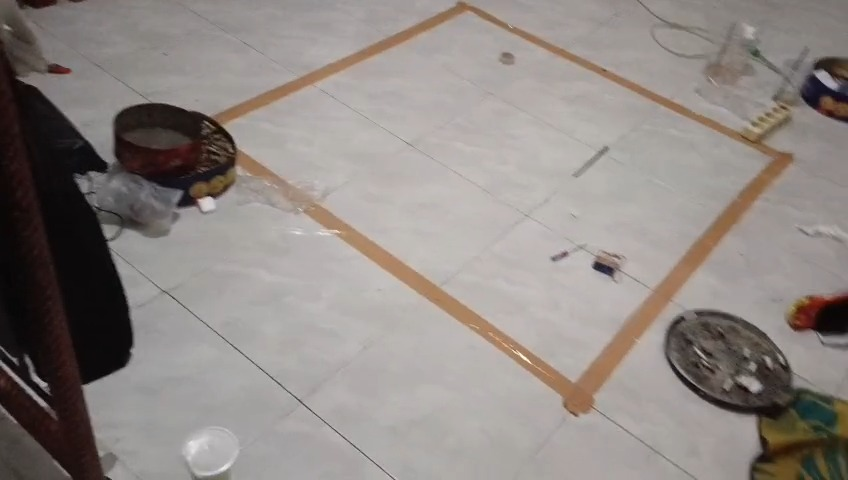floor marking: (214, 2, 793, 415), (237, 152, 308, 199)
